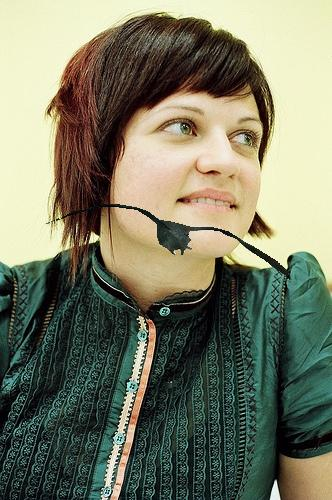tampered: (47, 205, 289, 277)
